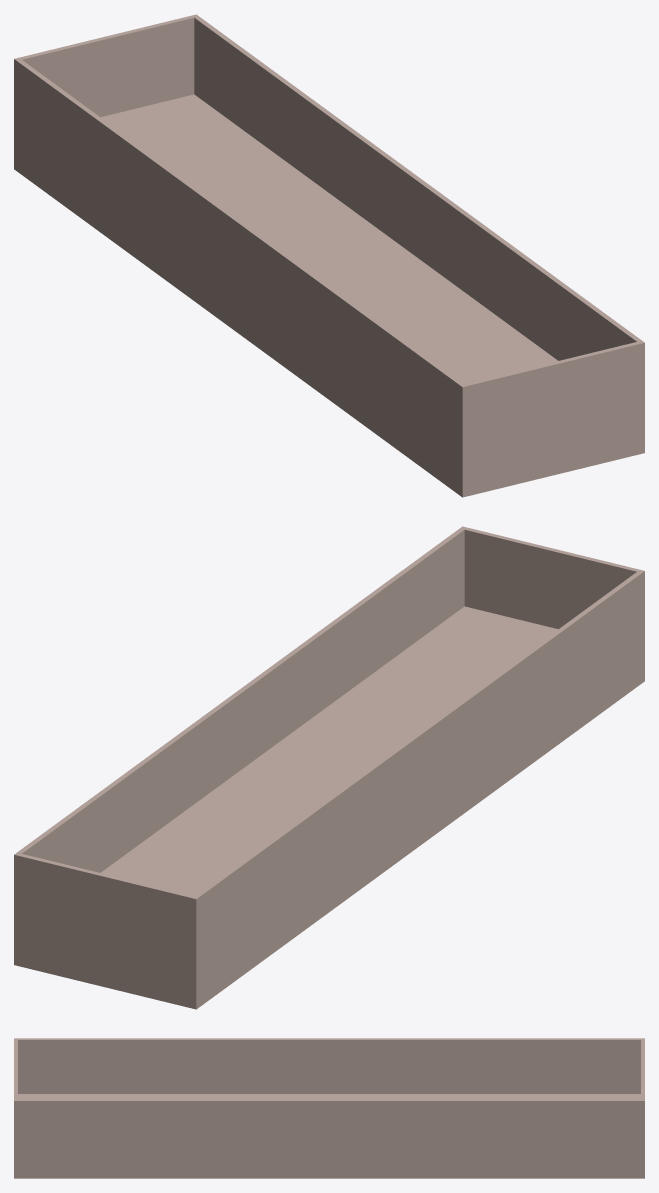
Rendered from SM_box_snacks_01.fbx.
3 views of the same model, one above another, from view 1: azimuth 30°, elevation 25°; view 2: azimuth 150°, elevation 25°; view 3: azimuth 270°, elevation 25° (orthographic). The views are drawn at different scales.
Visible parts, largest first — view 1: box_snacks_01; view 2: box_snacks_01; view 3: box_snacks_01.
Boxes of the visible parts, bbox=[...] form: box_snacks_01: bbox=[14, 14, 644, 497]; box_snacks_01: bbox=[14, 526, 644, 1009]; box_snacks_01: bbox=[14, 1038, 644, 1178].
Bounding box in the file's own units: 39.12 × 22.61 × 167.
